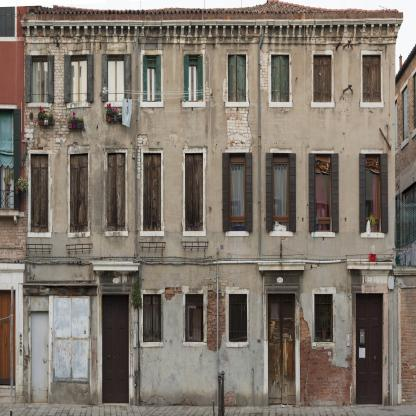Blind: (185, 153, 203, 231), (143, 153, 161, 231), (70, 154, 88, 232), (31, 153, 48, 232), (108, 153, 125, 231), (363, 55, 382, 103), (313, 55, 332, 103), (271, 55, 290, 103), (228, 55, 246, 102), (380, 153, 388, 233), (222, 152, 230, 231), (266, 152, 274, 231), (331, 153, 339, 232), (309, 153, 317, 232), (246, 152, 253, 231), (359, 153, 366, 232), (289, 153, 296, 231), (124, 54, 132, 101), (102, 53, 109, 102), (87, 54, 94, 102), (64, 54, 71, 102), (25, 54, 32, 102), (48, 55, 55, 103), (197, 54, 203, 102), (184, 54, 189, 102), (143, 55, 148, 102), (156, 55, 161, 102)
Building Outline: (20, 0, 416, 405)
Cornice: (92, 262, 140, 271), (346, 262, 394, 270), (258, 263, 306, 271)
Door: (268, 294, 295, 405), (356, 293, 383, 404), (102, 294, 129, 404), (31, 311, 49, 403)
Facade: (24, 20, 395, 405)
Floor: (24, 135, 395, 260)
Floor Slab: (24, 124, 395, 135), (24, 250, 395, 260)
Ground Floor: (24, 260, 395, 405)
Molding: (27, 24, 399, 35)
Roof: (34, 0, 398, 14)
Top Floor: (24, 25, 395, 135)
Window: (228, 152, 246, 231), (185, 153, 203, 231), (143, 153, 161, 231), (70, 154, 88, 232), (272, 153, 290, 231), (314, 154, 332, 232), (31, 153, 48, 232), (108, 153, 125, 231), (364, 154, 381, 232), (363, 55, 382, 103), (313, 55, 332, 103), (271, 55, 290, 103), (185, 294, 204, 342), (314, 294, 333, 342), (143, 294, 161, 342), (229, 294, 247, 342), (228, 55, 246, 102), (143, 55, 161, 102), (107, 54, 125, 101), (70, 55, 88, 102), (31, 55, 49, 102), (186, 54, 203, 102)
dont: (217, 370, 225, 416), (213, 401, 215, 416)
